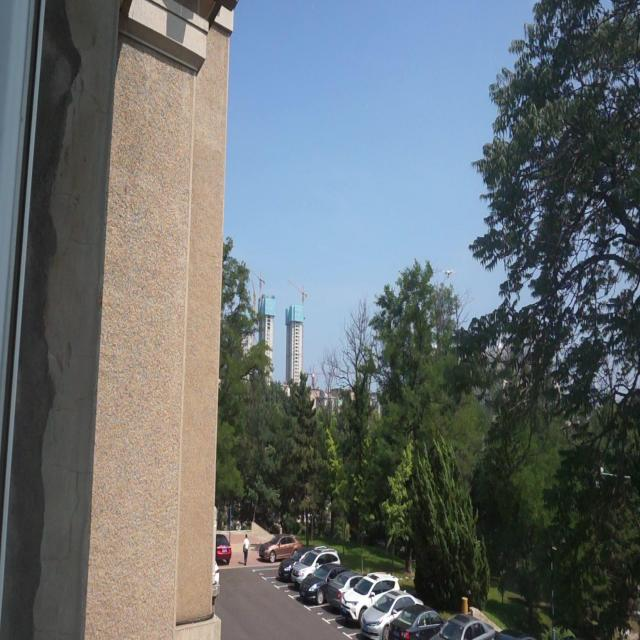UAV: (442, 268, 455, 280)
